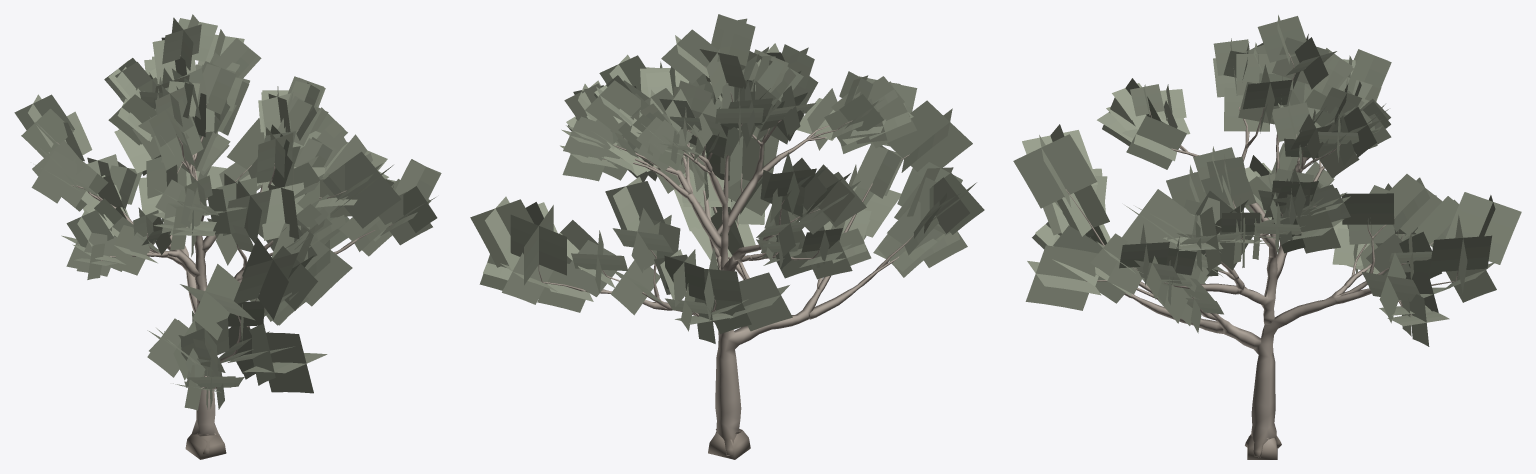
Rendered from bare_503.glb.
3 views of the same model, side by side, from view 1: azimuth 30°, elevation 25°; view 2: azimuth 150°, elevation 25°; view 3: azimuth 270°, elevation 25° (orthographic). The views are drawn at different scales.
Parts seen in each view (by area): view 1: bare_503_twigs, bare_503_limbs; view 2: bare_503_twigs, bare_503_limbs; view 3: bare_503_twigs, bare_503_limbs.
Boxes of the visible parts, bbox=[...] form: bare_503_twigs: bbox=[14, 14, 441, 410]; bare_503_limbs: bbox=[56, 55, 407, 459]; bare_503_twigs: bbox=[470, 14, 984, 343]; bare_503_limbs: bbox=[538, 66, 913, 459]; bare_503_twigs: bbox=[1013, 15, 1521, 346]; bare_503_limbs: bbox=[1066, 53, 1458, 459].
Size of the model in its own units: 13.55 by 16.54 by 17.72.
